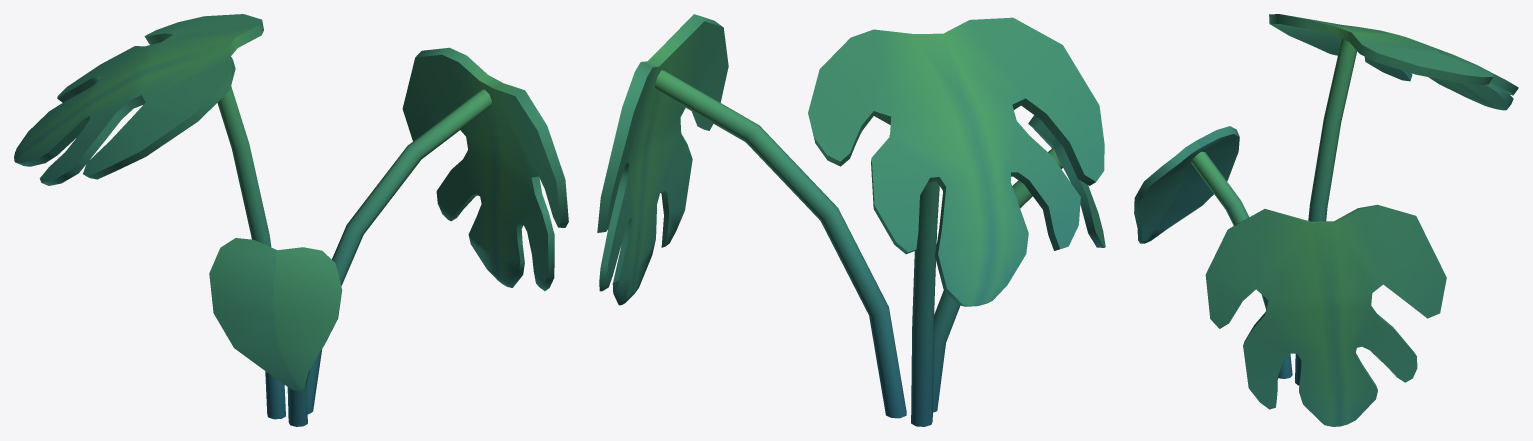
The model's file is monstera_plant_small.glb.
The picture shows the model from 3 angles, left to right: view 1: azimuth 30°, elevation 25°; view 2: azimuth 150°, elevation 25°; view 3: azimuth 270°, elevation 25°; orthographic projection. The views are drawn at different scales.
Parts seen in each view (by area): view 1: monstera_plant_small; view 2: monstera_plant_small; view 3: monstera_plant_small.
Part boxes in pixels (x1=…): monstera_plant_small: x1=14, y1=14, x2=568, y2=426; monstera_plant_small: x1=597, y1=14, x2=1105, y2=426; monstera_plant_small: x1=1134, y1=14, x2=1518, y2=426.
Bounding box in the file's own units: 1.26 × 1.02 × 1.07.
Materials: 1 (1 with a texture image).
